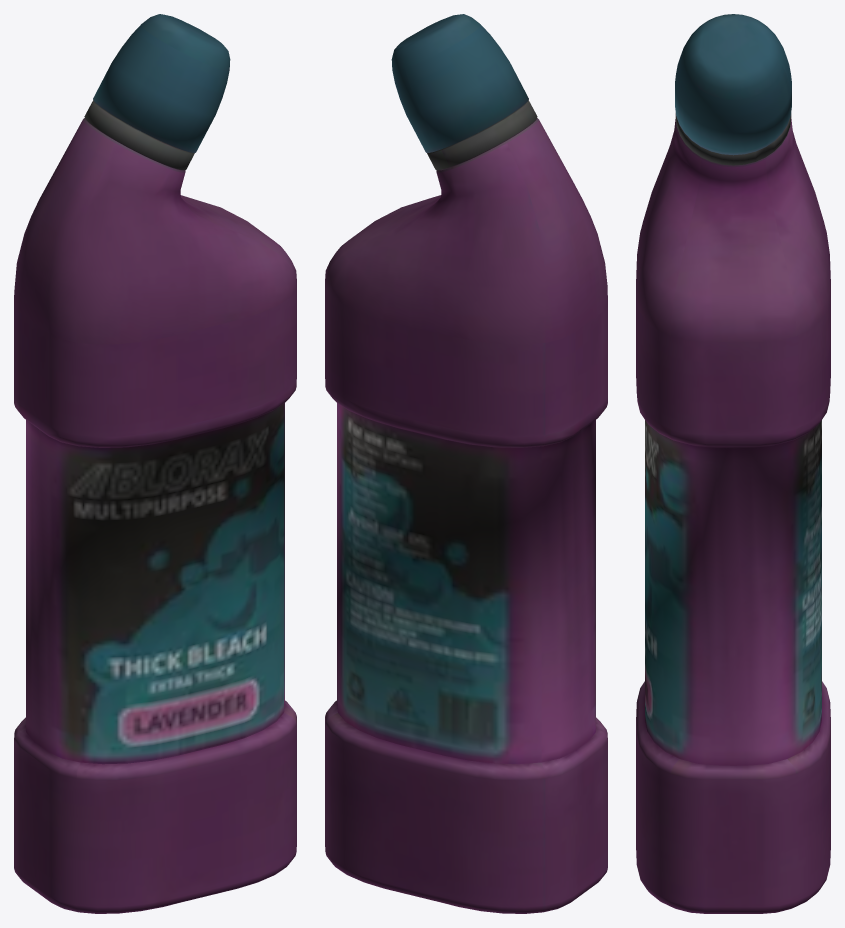
File: bleach.glb
3 renders of one model, left to right at view 1: azimuth 30°, elevation 25°; view 2: azimuth 150°, elevation 25°; view 3: azimuth 270°, elevation 25°, orthographic.
Visible parts, largest first — view 1: bleach_bottle; view 2: bleach_bottle; view 3: bleach_bottle.
Part boxes in pixels (<box>): bleach_bottle: <box>14,14,296,913</box>; bleach_bottle: <box>325,14,607,913</box>; bleach_bottle: <box>636,14,830,913</box>.
Size of the model in its own units: 0.0884 by 0.2936 by 0.0612.
1 material, 1 textured.
